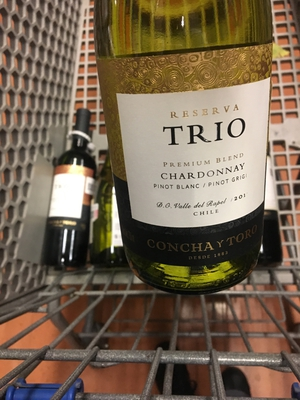trio chardonnay: (94, 5, 269, 288)
